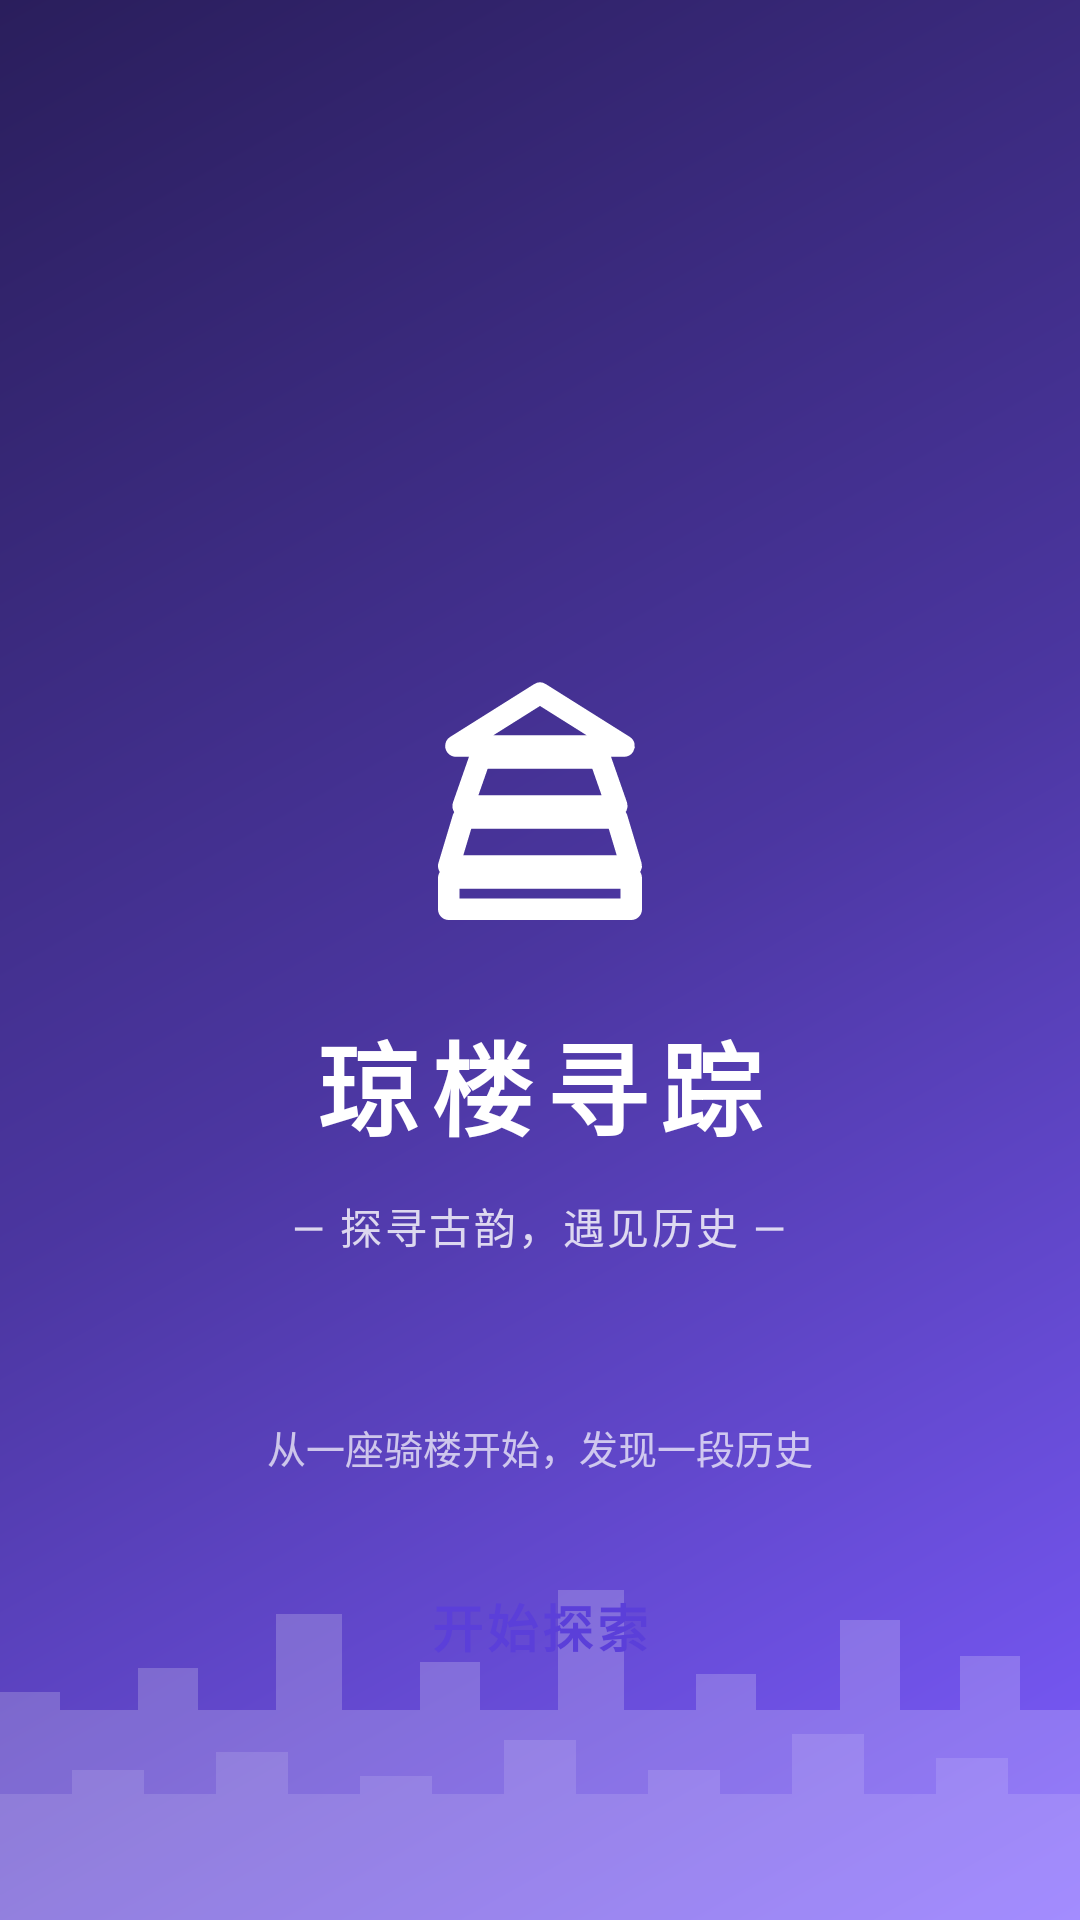

Named icons in this screenshot (1080px x 1920px) and their centers, [x,y]:
pagoda: [540,801]
